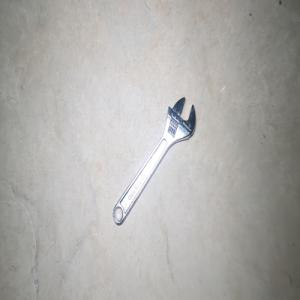Wrench: (112, 97, 195, 225)
